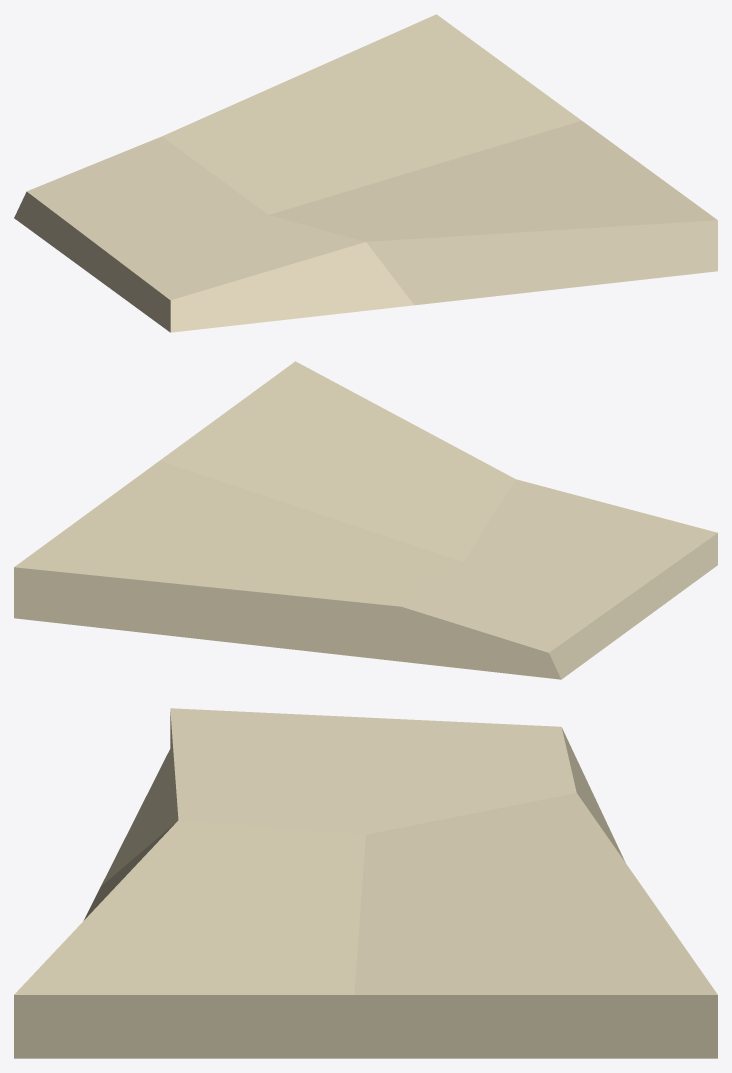
Rendered from Destroy_Plate_9.fbx.
The picture shows the model from 3 angles, top to bottom: view 1: azimuth 30°, elevation 25°; view 2: azimuth 150°, elevation 25°; view 3: azimuth 270°, elevation 25°; orthographic projection. The views are drawn at different scales.
Parts seen in each view (by area): view 1: Destroy_Plate_9; view 2: Destroy_Plate_9; view 3: Destroy_Plate_9.
Boxes of the visible parts, left/top/right/bottom form: Destroy_Plate_9: left=14, top=14, right=717, bottom=332; Destroy_Plate_9: left=14, top=361, right=717, bottom=679; Destroy_Plate_9: left=14, top=708, right=717, bottom=1058.
Bounding box in the file's own units: 298 × 30 × 300.
